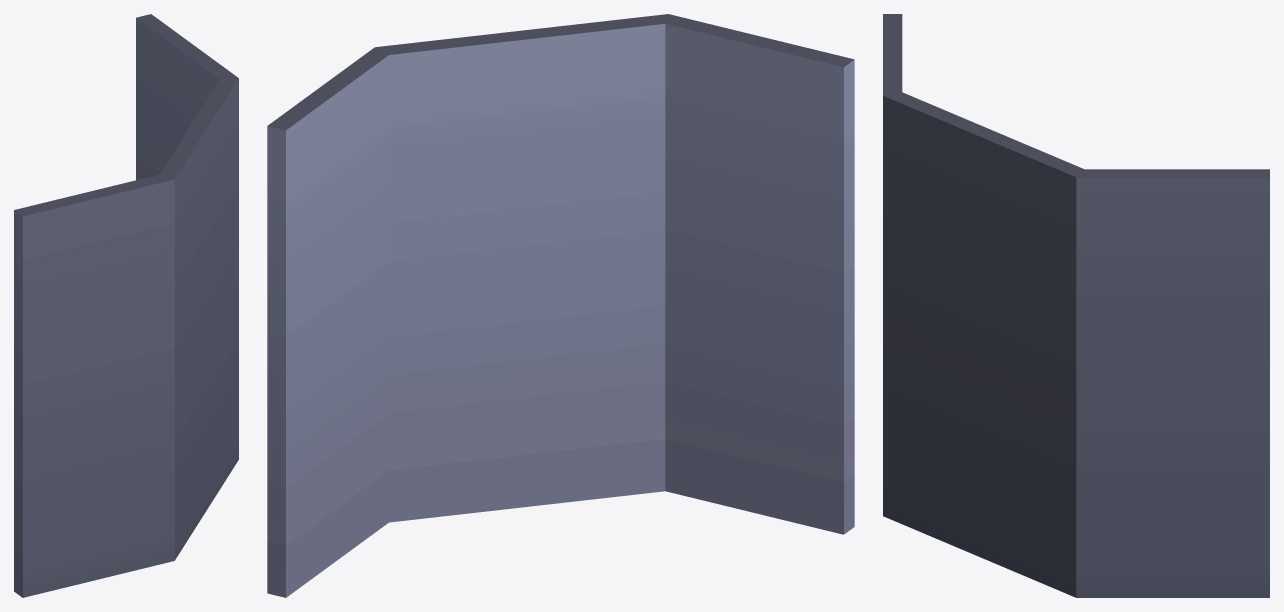
File: wall-corner-diagonal.glb
3 views of the same model, side by side, from view 1: azimuth 30°, elevation 25°; view 2: azimuth 150°, elevation 25°; view 3: azimuth 270°, elevation 25° (orthographic). The views are drawn at different scales.
Visible parts, largest first — view 1: wall-corner-diagonal; view 2: wall-corner-diagonal; view 3: wall-corner-diagonal.
Boxes of the visible parts, left/top/right/bottom form: wall-corner-diagonal: left=14, top=14, right=238, bottom=597; wall-corner-diagonal: left=267, top=14, right=854, bottom=597; wall-corner-diagonal: left=883, top=14, right=1269, bottom=597.
Size of the model in its own units: 2 by 2.4 by 2.
1 material, 1 textured.
